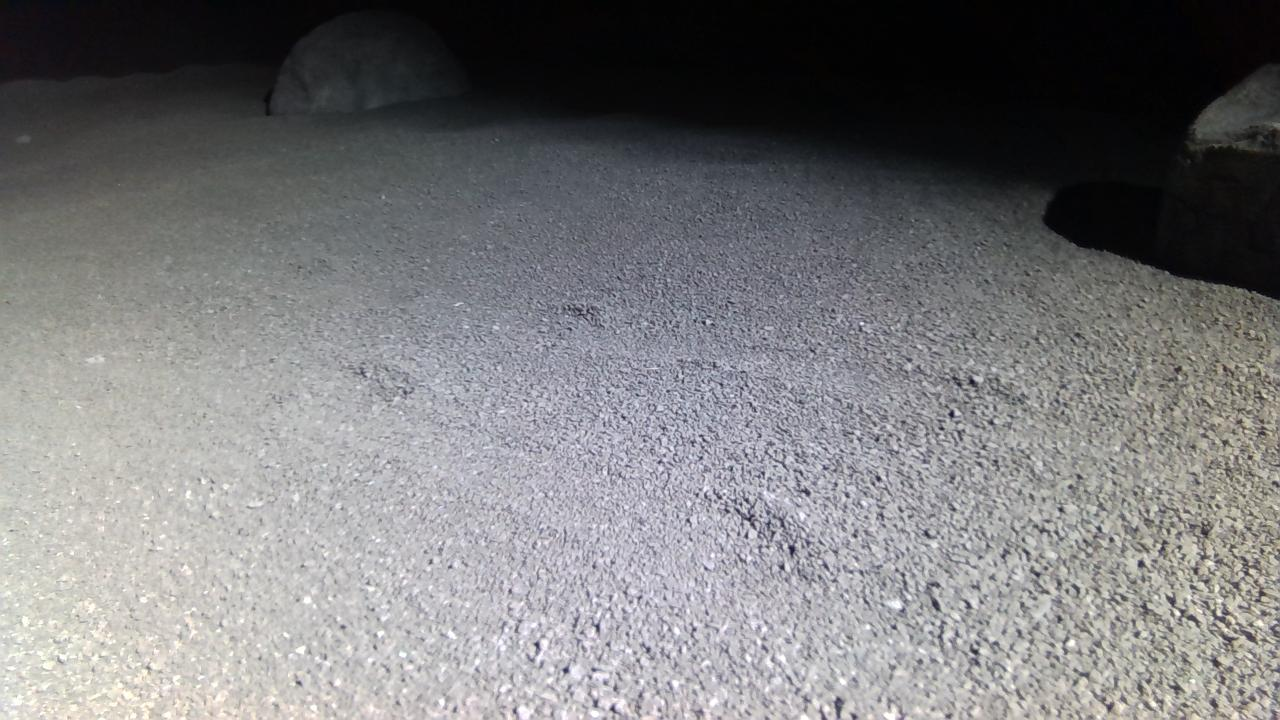rock: (1160, 63, 1280, 294), (268, 9, 470, 113)
